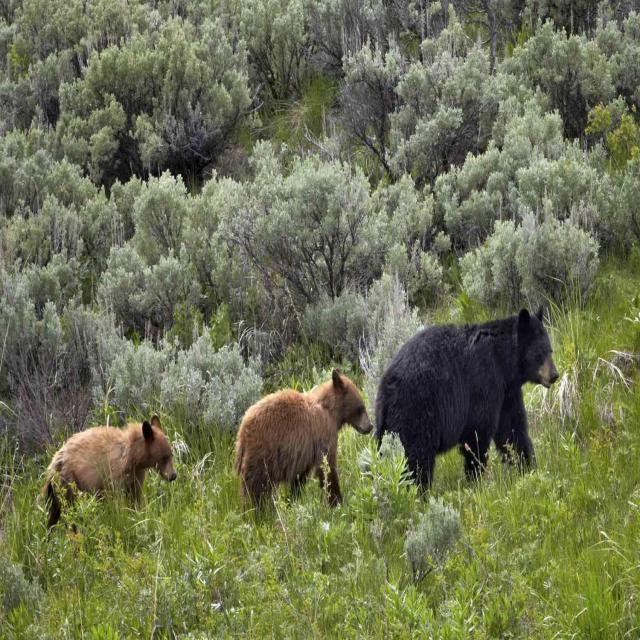Bear: (372, 311, 561, 495), (233, 372, 374, 509), (39, 419, 176, 529)
